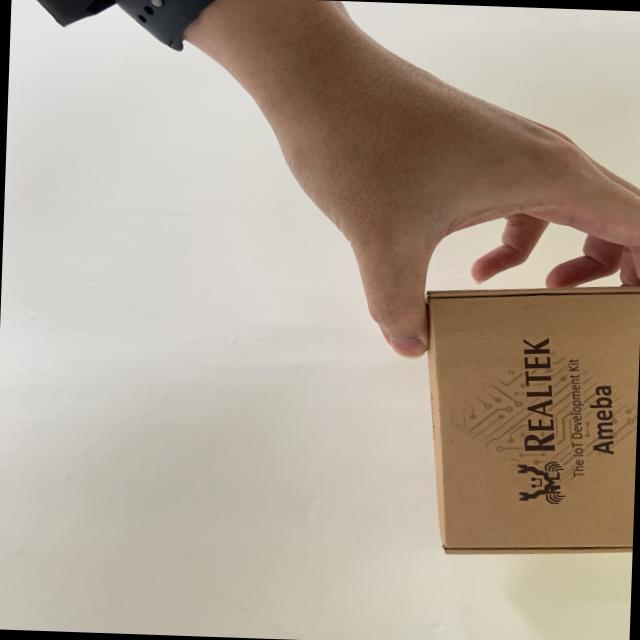box: (391, 273, 640, 582)
